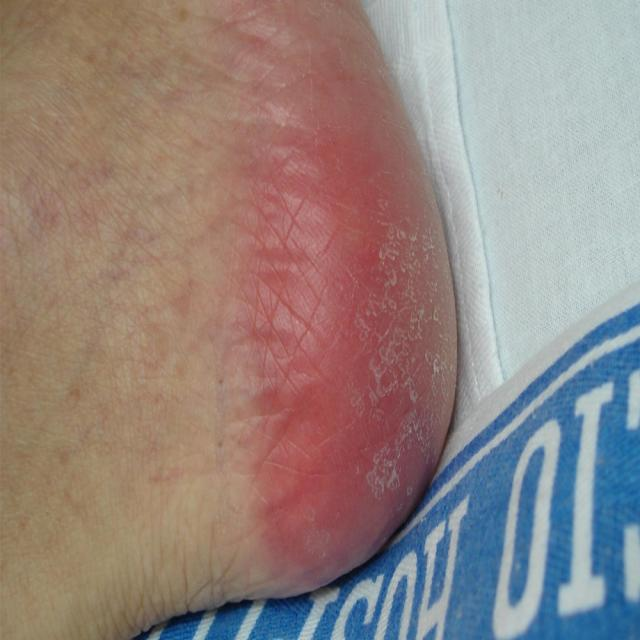stage-1: (241, 113, 441, 574)
